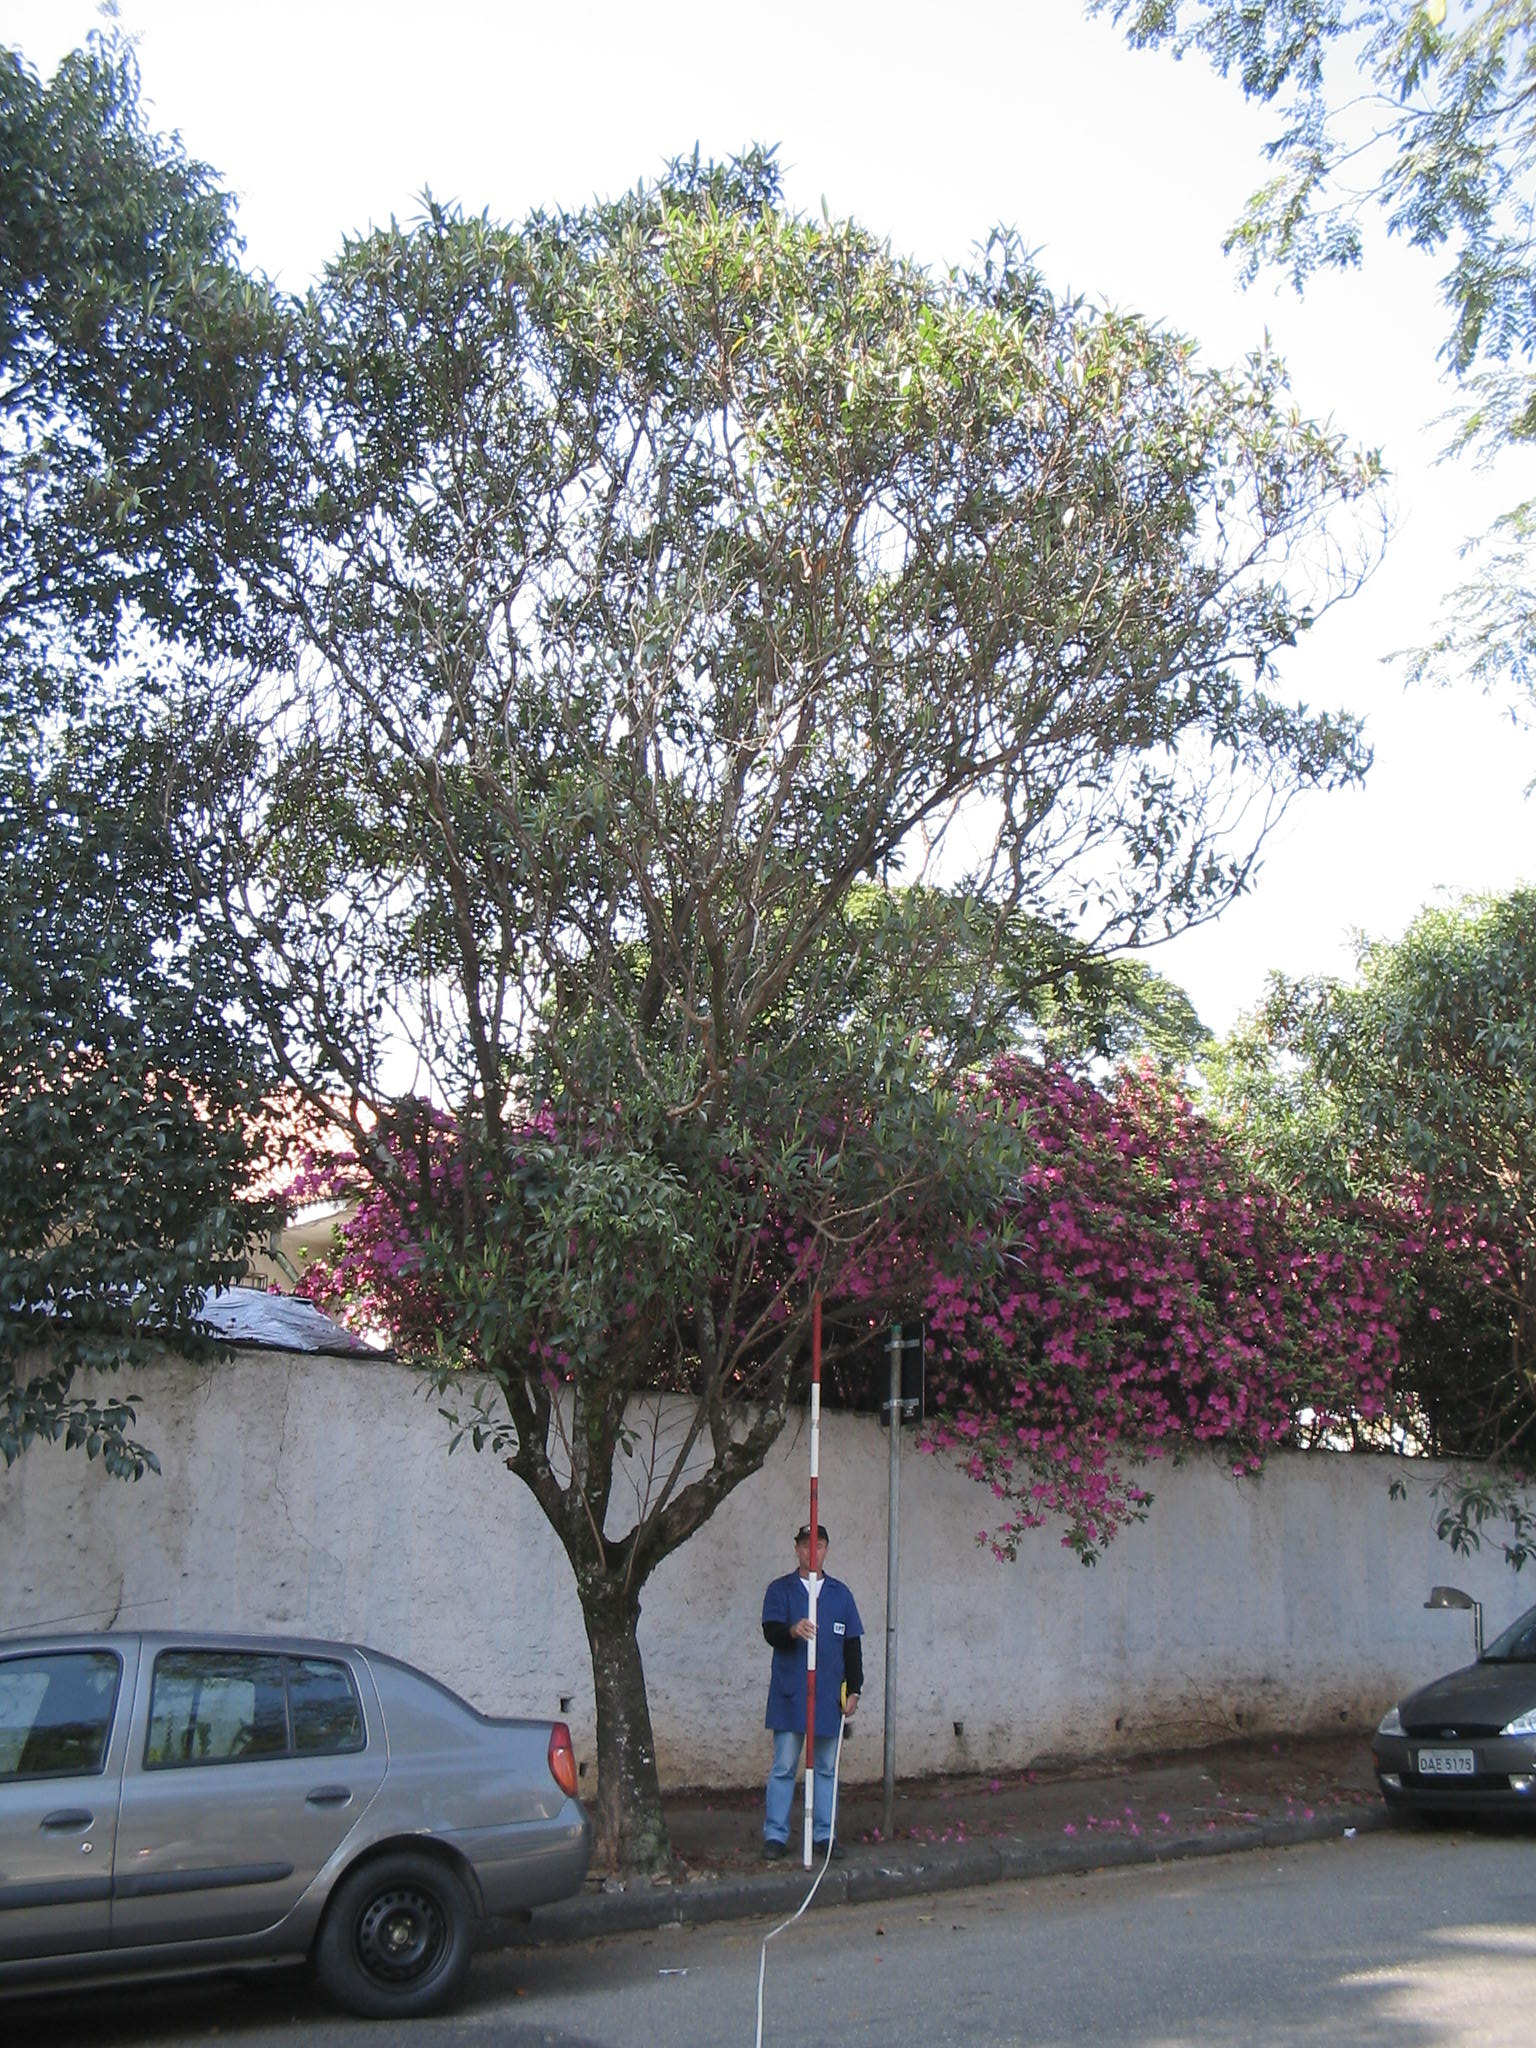crown: (202, 145, 1375, 1542)
stem: (545, 1574, 729, 1879)
stick: (771, 1287, 860, 1874)
tree: (194, 142, 1386, 1892)
